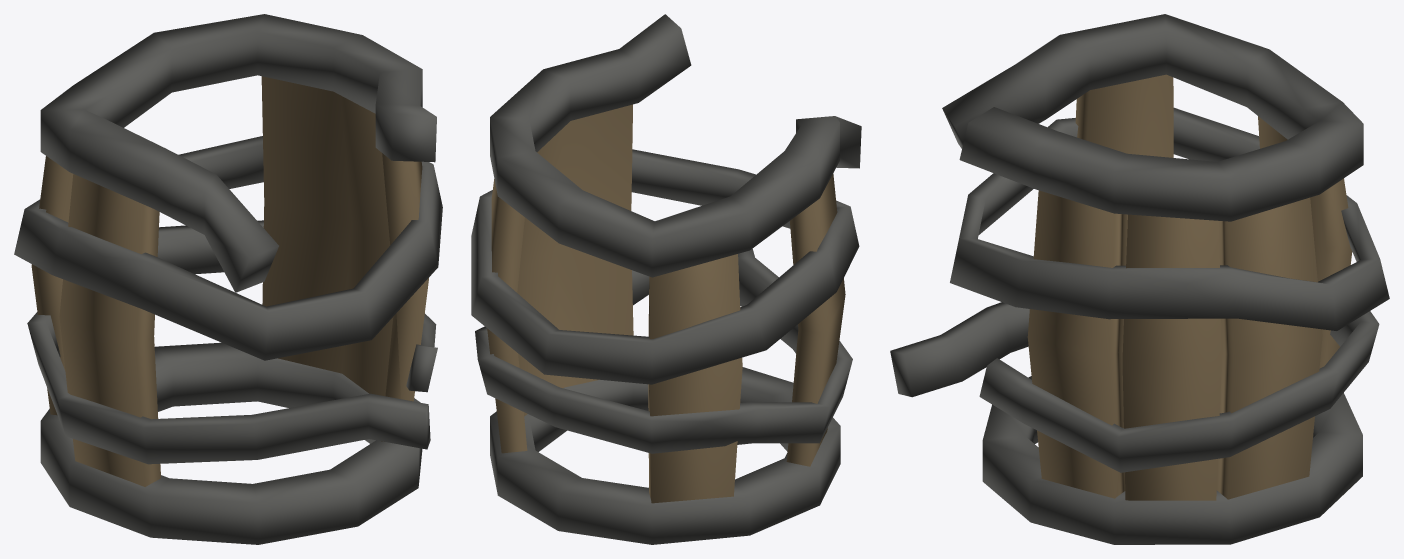
Rendered from rpgpp_av_barrel_02c.gltf.
3 renders of one model, left to right at view 1: azimuth 30°, elevation 25°; view 2: azimuth 150°, elevation 25°; view 3: azimuth 270°, elevation 25°, orthographic. The views are drawn at different scales.
Parts seen in each view (by area): view 1: rpgpp_av_barrel_02c; view 2: rpgpp_av_barrel_02c; view 3: rpgpp_av_barrel_02c.
Part boxes in pixels (<box>): rpgpp_av_barrel_02c: <box>14,14,442,544</box>; rpgpp_av_barrel_02c: <box>471,14,861,544</box>; rpgpp_av_barrel_02c: <box>890,14,1389,544</box>.
Bounding box in the file's own units: 0.00945 × 0.00996 × 0.0114.
1 material, 1 textured.
